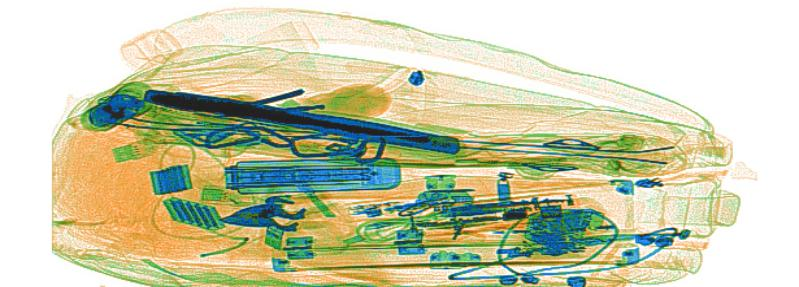scissors: (216, 172, 356, 255)
